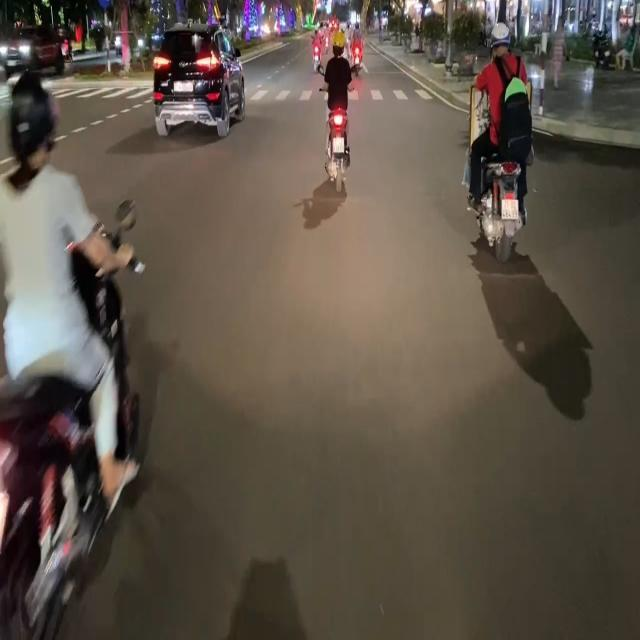walk-crossing: (56, 84, 154, 102), (246, 84, 325, 103), (354, 86, 434, 104)
